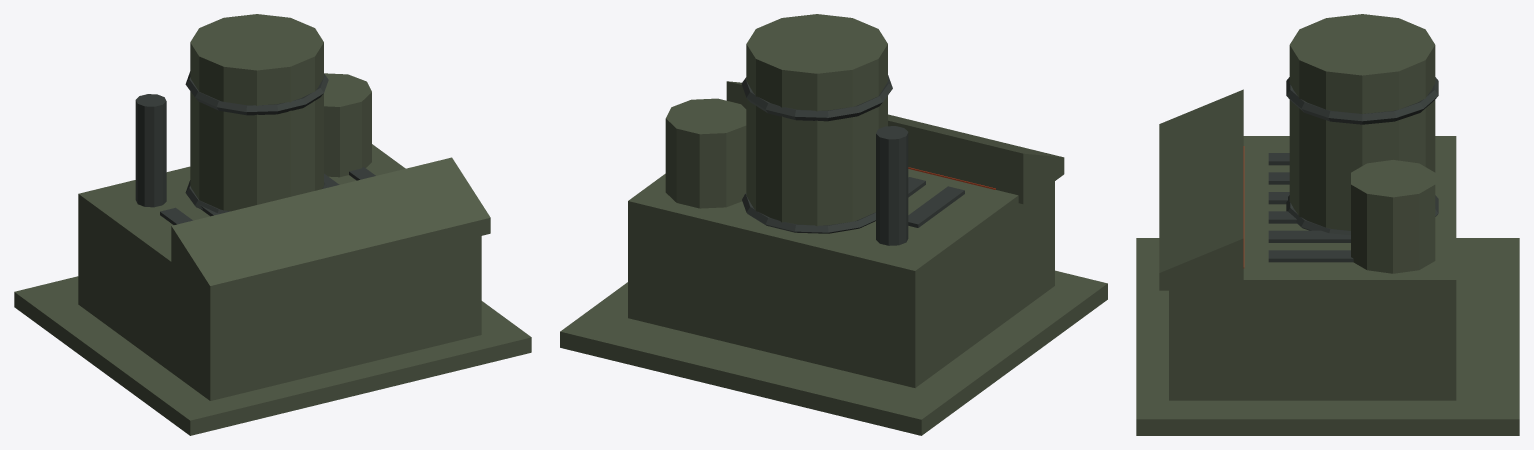
File: Bastion_PowerPlant_Static.obj
3 views of the same model, side by side, from view 1: azimuth 30°, elevation 25°; view 2: azimuth 150°, elevation 25°; view 3: azimuth 270°, elevation 25° (orthographic). The views are drawn at different scales.
Visible parts, largest first — view 1: Bastion_PowerPlant_Static; view 2: Bastion_PowerPlant_Static; view 3: Bastion_PowerPlant_Static.
Boxes of the visible parts, <box> form: Bastion_PowerPlant_Static: <box>14,14,531,435</box>; Bastion_PowerPlant_Static: <box>560,14,1107,435</box>; Bastion_PowerPlant_Static: <box>1136,14,1519,435</box>.
Bounding box in the file's own units: 5.6 × 4.32 × 5.
Materials: 1 (1 with a texture image).
